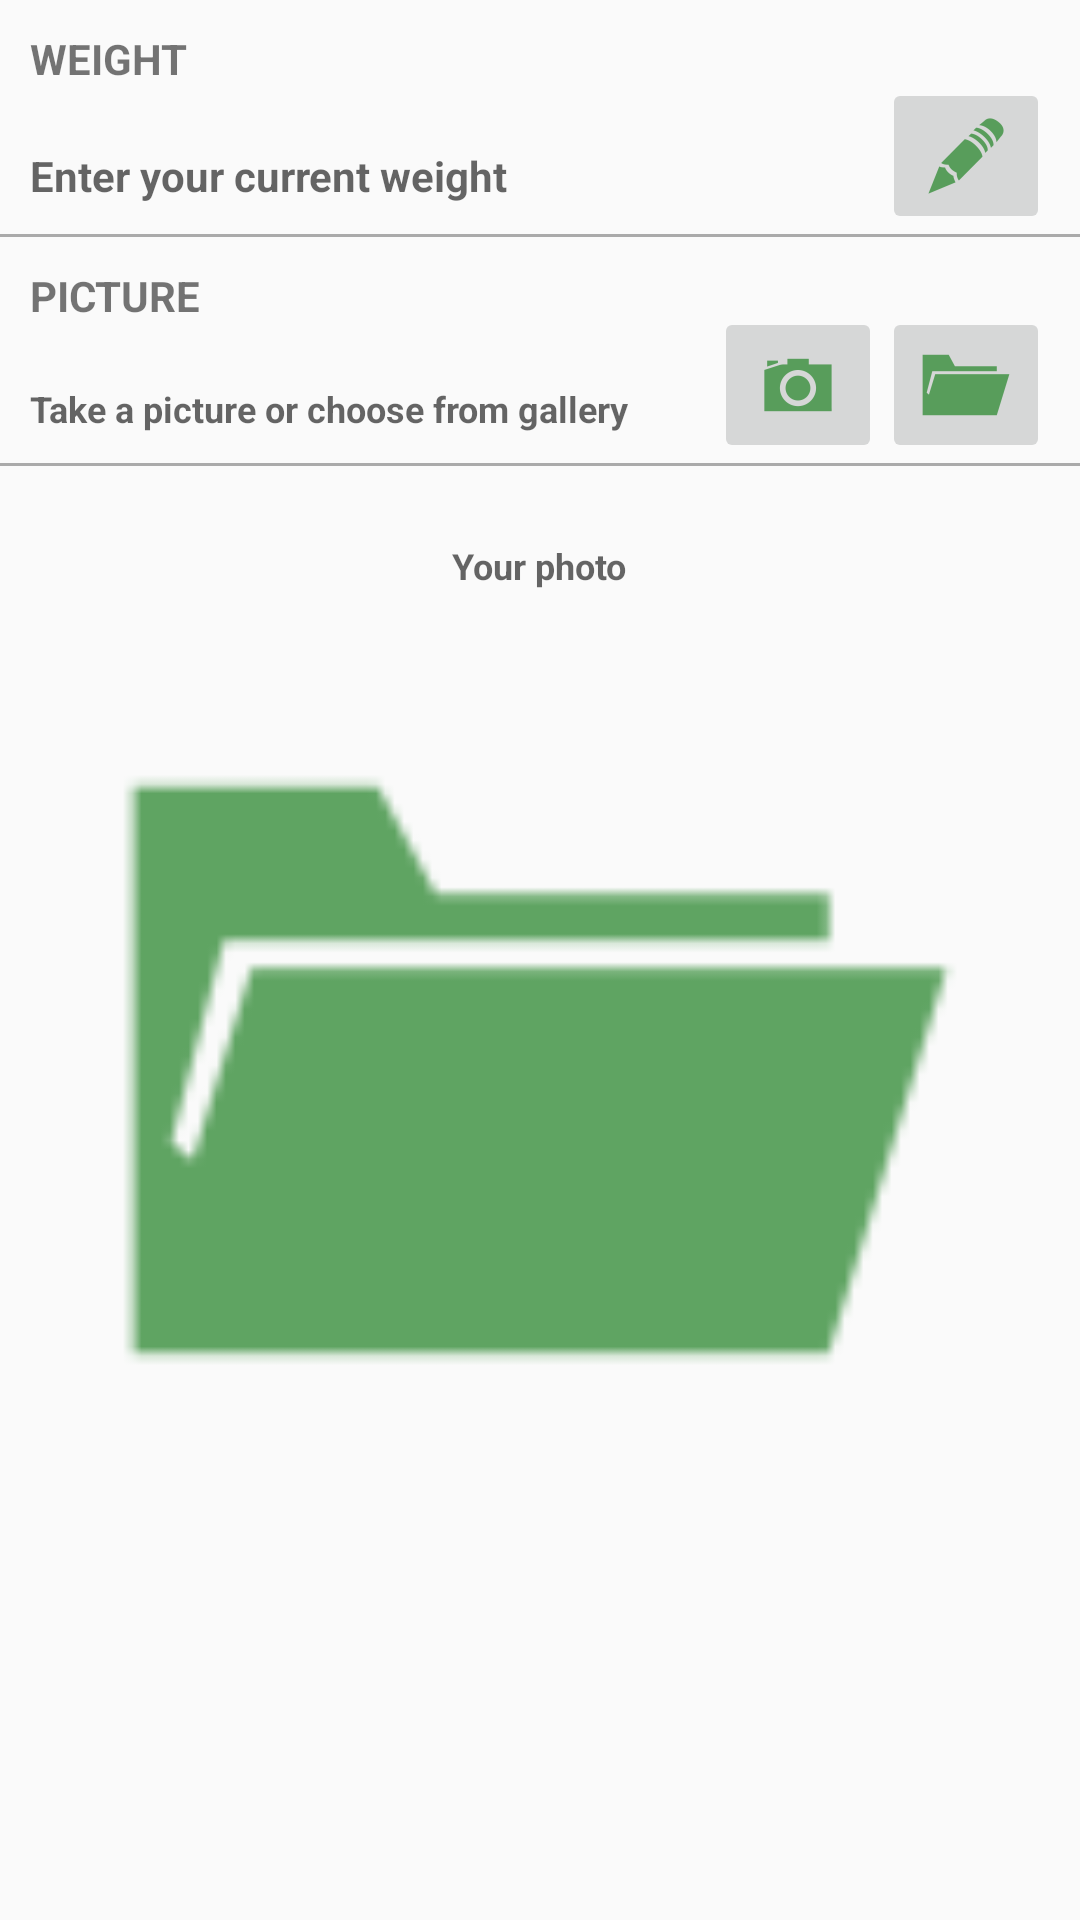

Icon bounding boxes for this 1080x1920 phone screenshot, format (x1, y1, x2, y2):
camera: (726, 325, 870, 445)
edit: (894, 96, 1038, 216)
